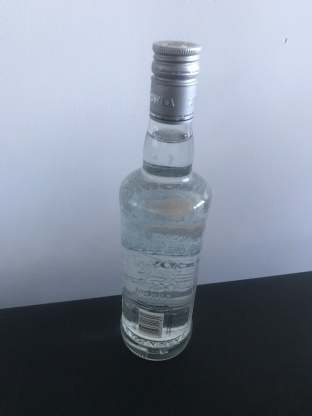nakretka: (147, 36, 202, 126)
